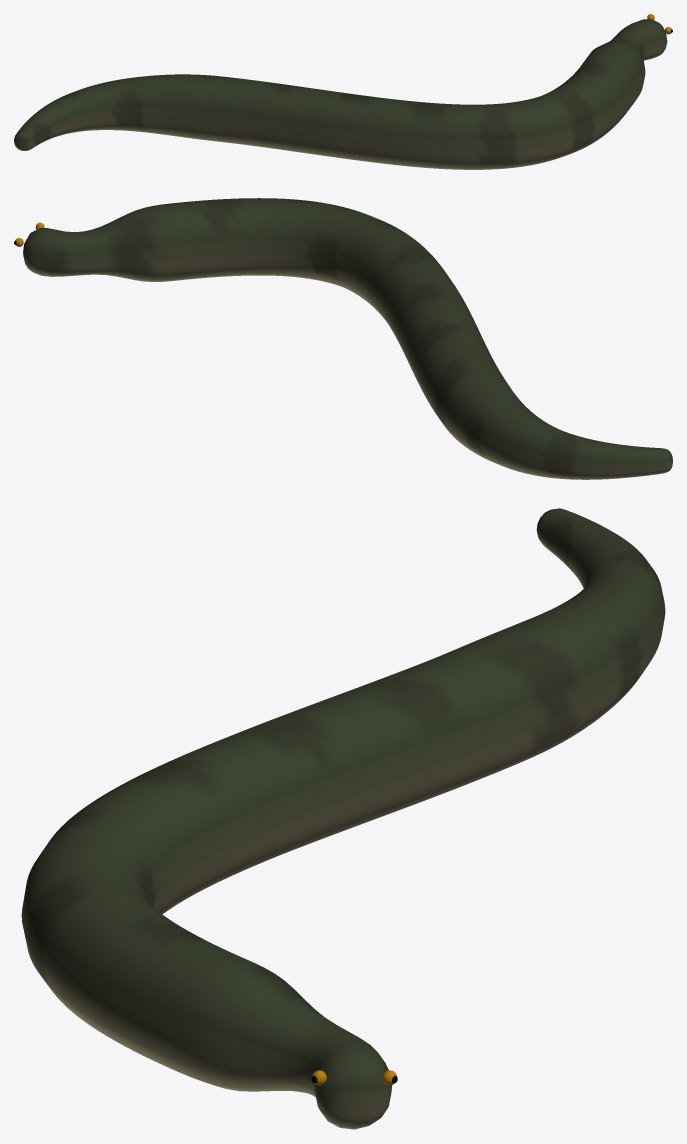
The model's file is titanoboa.glb.
3 views of the same model, one above another, from view 1: azimuth 30°, elevation 25°; view 2: azimuth 150°, elevation 25°; view 3: azimuth 270°, elevation 25° (orthographic). The views are drawn at different scales.
Parts seen in each view (by area): view 1: corpo; view 2: corpo; view 3: corpo.
Boxes of the visible parts, <box> form: corpo: <box>14,14,672,169</box>; corpo: <box>14,198,672,479</box>; corpo: <box>21,508,665,1129</box>.
Size of the model in its own units: 5.09 by 0.4766 by 2.38.
